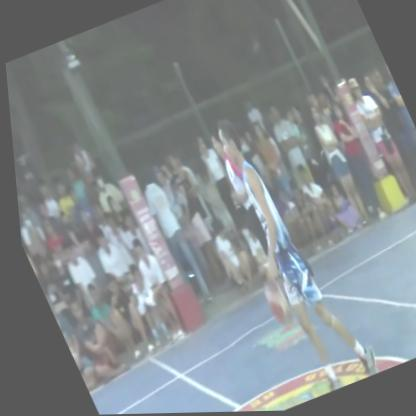basketball: (248, 276, 293, 332)
